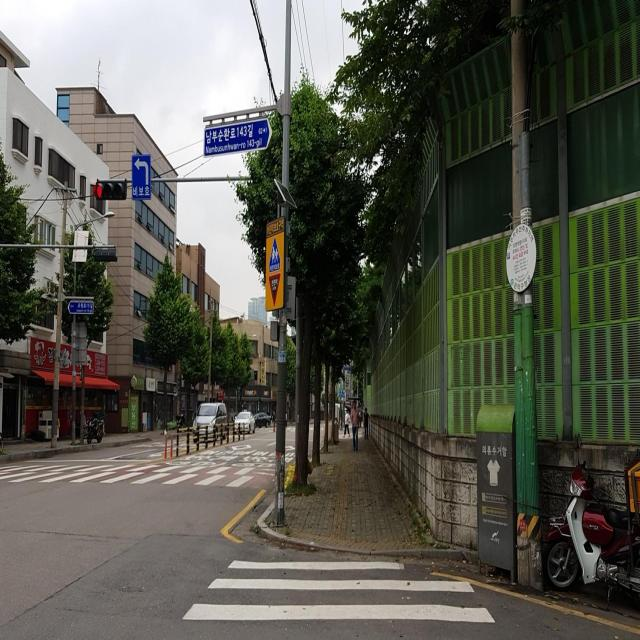횡단보도: (181, 558, 496, 626), (0, 452, 274, 491)
